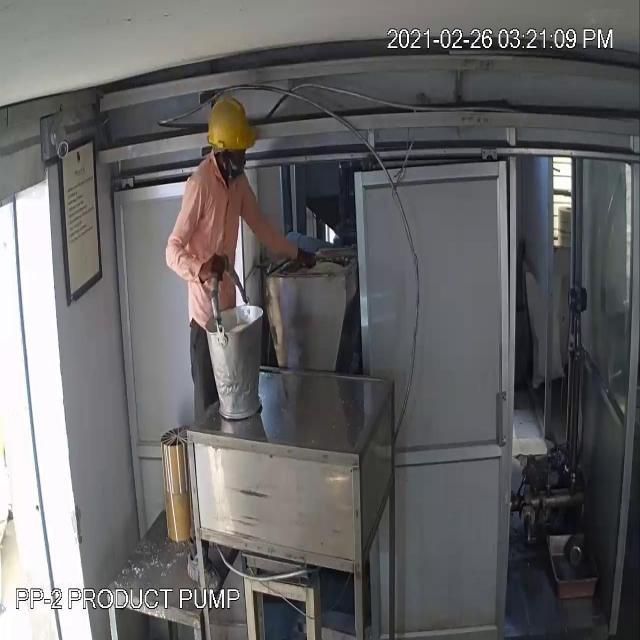hat: (200, 85, 264, 163)
